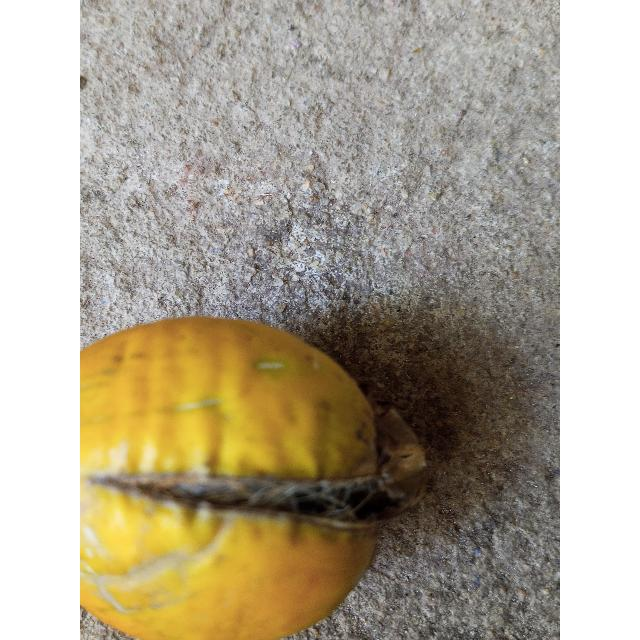damaged: (80, 316, 424, 640)
